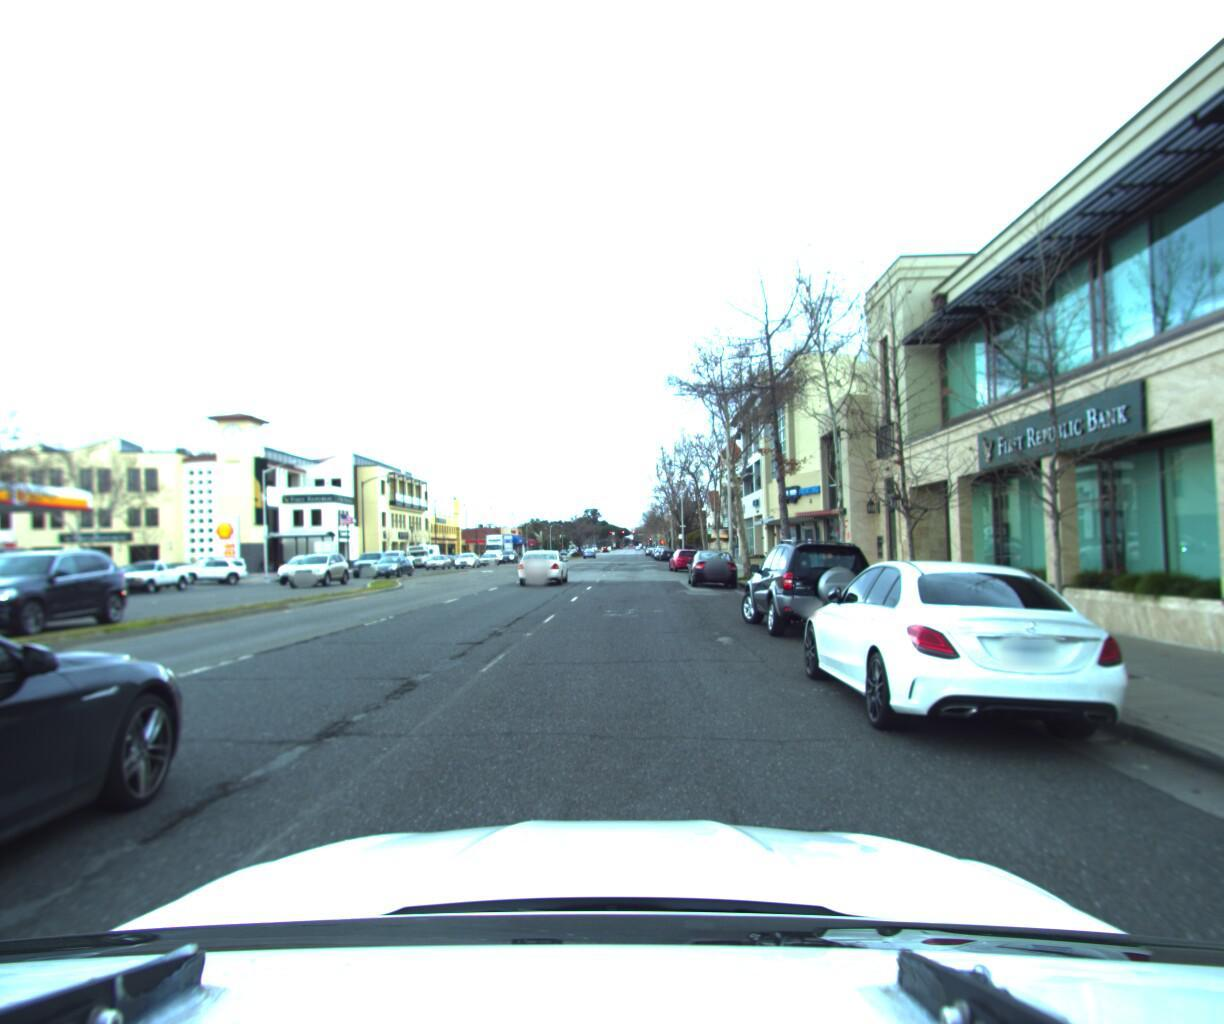car: (0, 554, 236, 1024), (786, 538, 1179, 770), (736, 530, 895, 642), (0, 551, 139, 643), (107, 556, 200, 595), (0, 561, 51, 617), (514, 542, 576, 584), (175, 556, 256, 586), (288, 554, 353, 589), (686, 545, 742, 585), (271, 552, 335, 586), (368, 552, 419, 578), (346, 553, 394, 580), (667, 544, 707, 569), (449, 550, 481, 567), (477, 550, 502, 564)
